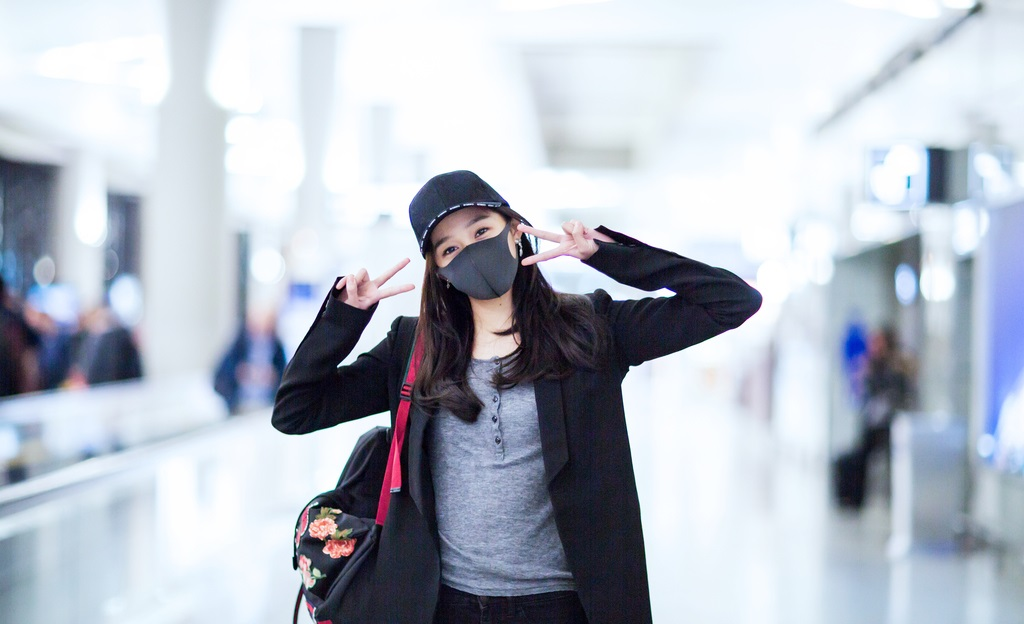face_mask: (431, 207, 523, 297)
